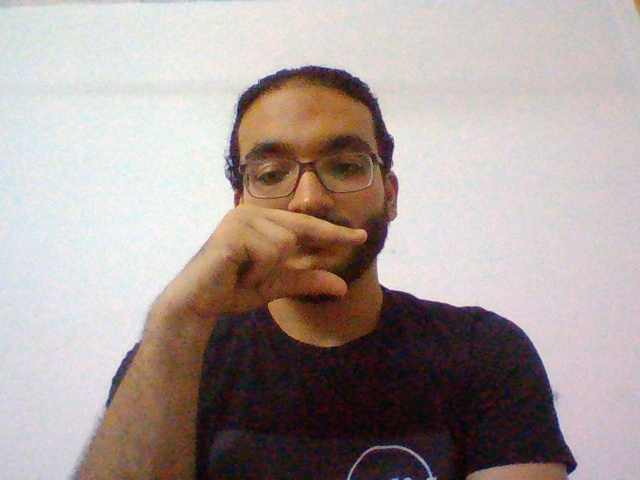No: (156, 200, 368, 321)
